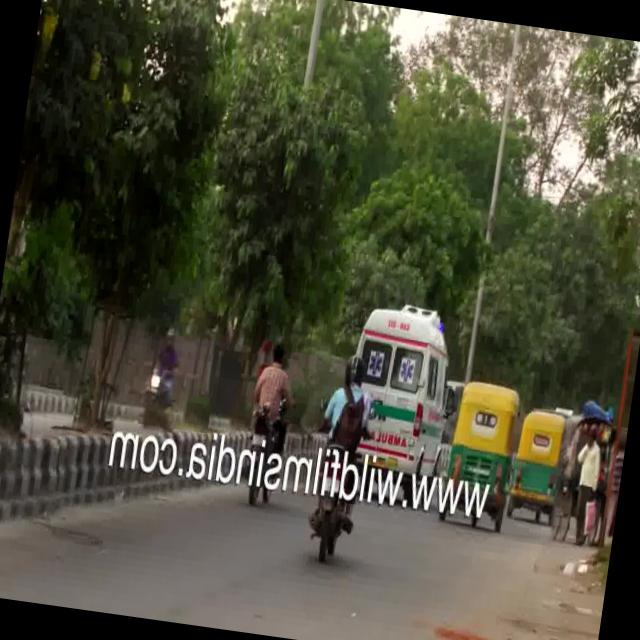ambulance: (331, 268, 472, 507)
